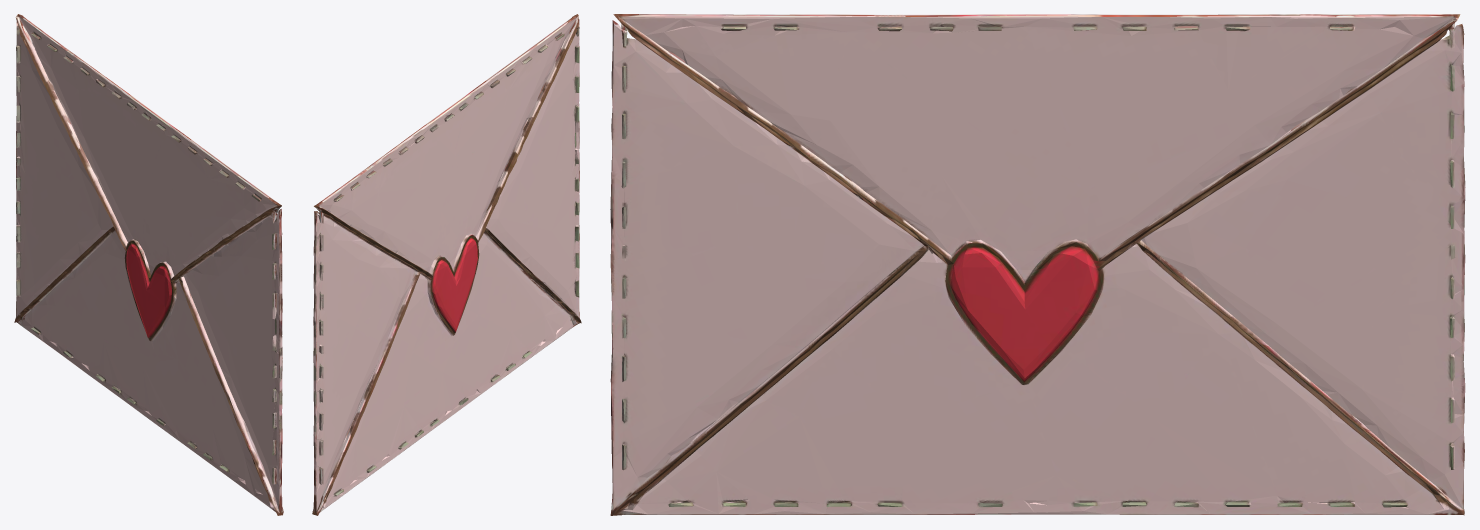
Rendered from cartita.glb.
The picture shows the model from 3 angles, left to right: view 1: azimuth 30°, elevation 25°; view 2: azimuth 150°, elevation 25°; view 3: azimuth 270°, elevation 25°; orthographic projection. The views are drawn at different scales.
Visible parts, largest first — view 1: tripo_node_449cd051-be1b-47da-8673-f658adfc9a7f; view 2: tripo_node_449cd051-be1b-47da-8673-f658adfc9a7f; view 3: tripo_node_449cd051-be1b-47da-8673-f658adfc9a7f.
Boxes of the visible parts, box(x1,y1,x2,y2) form: tripo_node_449cd051-be1b-47da-8673-f658adfc9a7f: box(14, 14, 283, 515); tripo_node_449cd051-be1b-47da-8673-f658adfc9a7f: box(312, 14, 581, 515); tripo_node_449cd051-be1b-47da-8673-f658adfc9a7f: box(610, 14, 1465, 515).
Size of the model in its own units: 0.029 by 0.6458 by 0.9999.
Materials: 1 (1 with a texture image).
